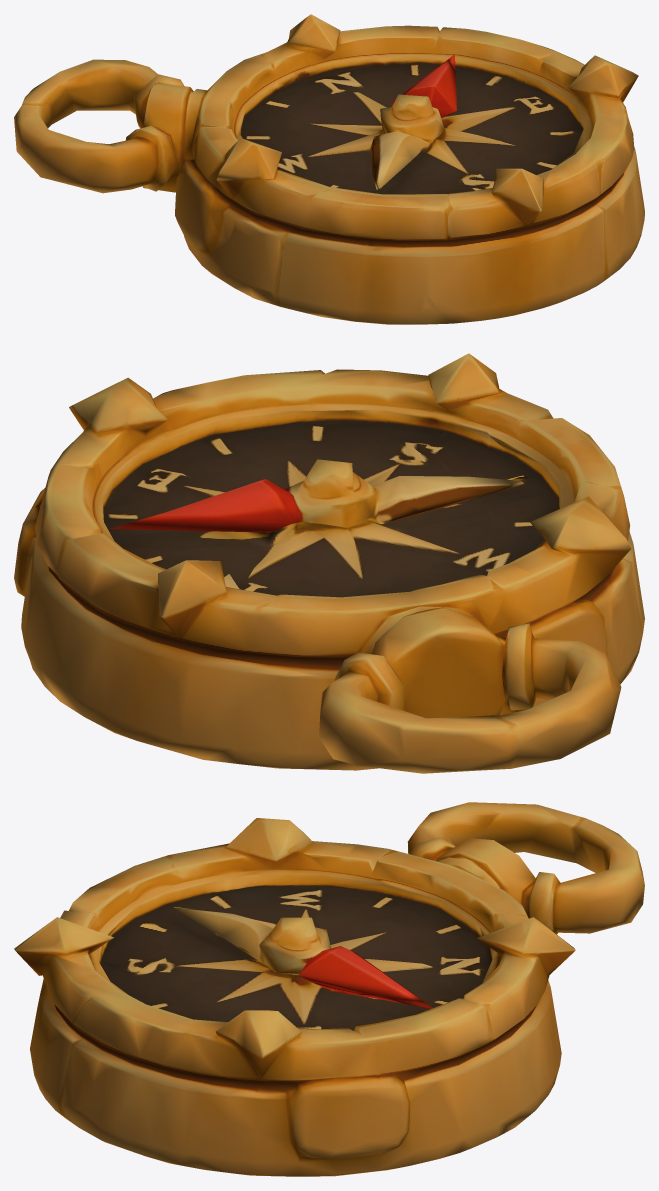
File: compass_(navigation_icon).fbx
3 renders of one model, top to bottom at view 1: azimuth 30°, elevation 25°; view 2: azimuth 150°, elevation 25°; view 3: azimuth 270°, elevation 25°, orthographic. The views are drawn at different scales.
Parts seen in each view (by area): view 1: tripo_node_695f01c7; view 2: tripo_node_695f01c7; view 3: tripo_node_695f01c7.
Boxes of the visible parts, box(x1,y1,x2,y2) form: tripo_node_695f01c7: box(14, 14, 644, 324); tripo_node_695f01c7: box(14, 353, 644, 773); tripo_node_695f01c7: box(14, 802, 644, 1176).
Bounding box in the file's own units: 100 × 96.06 × 26.12.
Materials: 1 (1 with a texture image).
